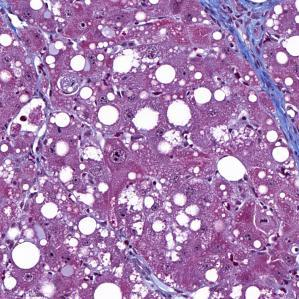fibrosis: (202, 3, 281, 66), (258, 79, 299, 144)
